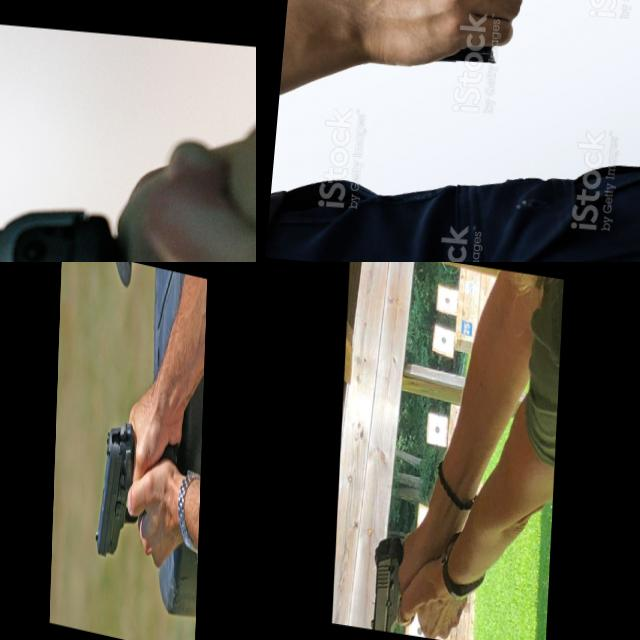handgun: (385, 0, 640, 115), (0, 188, 255, 262), (93, 412, 182, 575), (369, 526, 424, 636)
